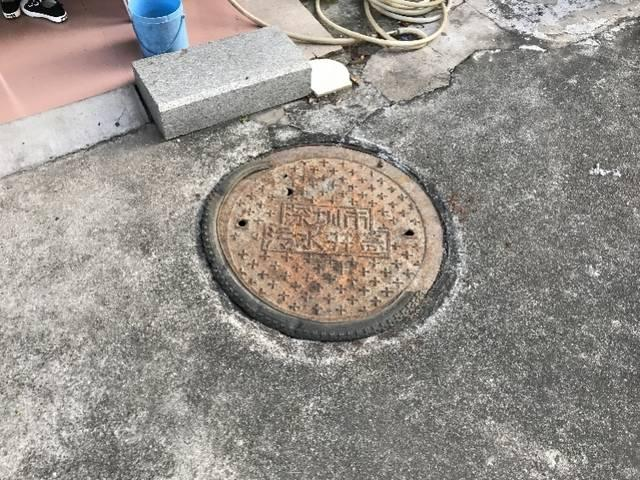wellcover: (181, 121, 471, 362)
